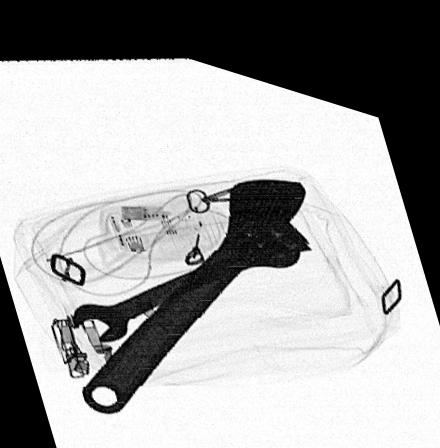Wrench: (80, 162, 313, 410), (70, 213, 299, 333)
